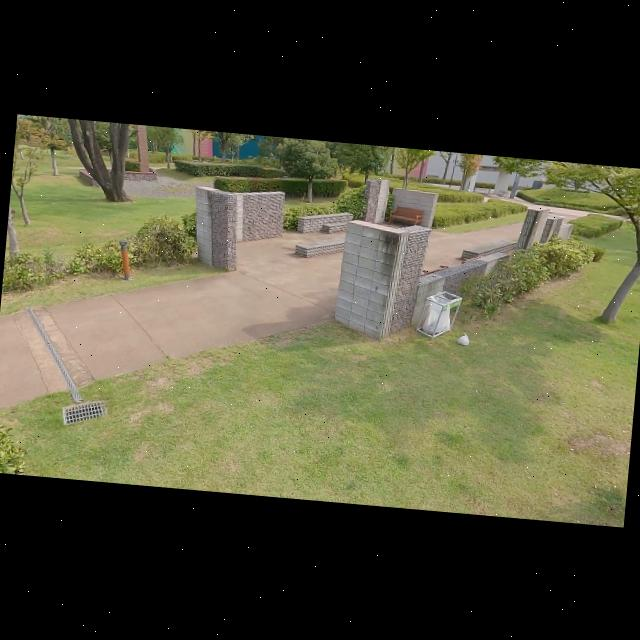trash: (458, 330, 468, 344)
